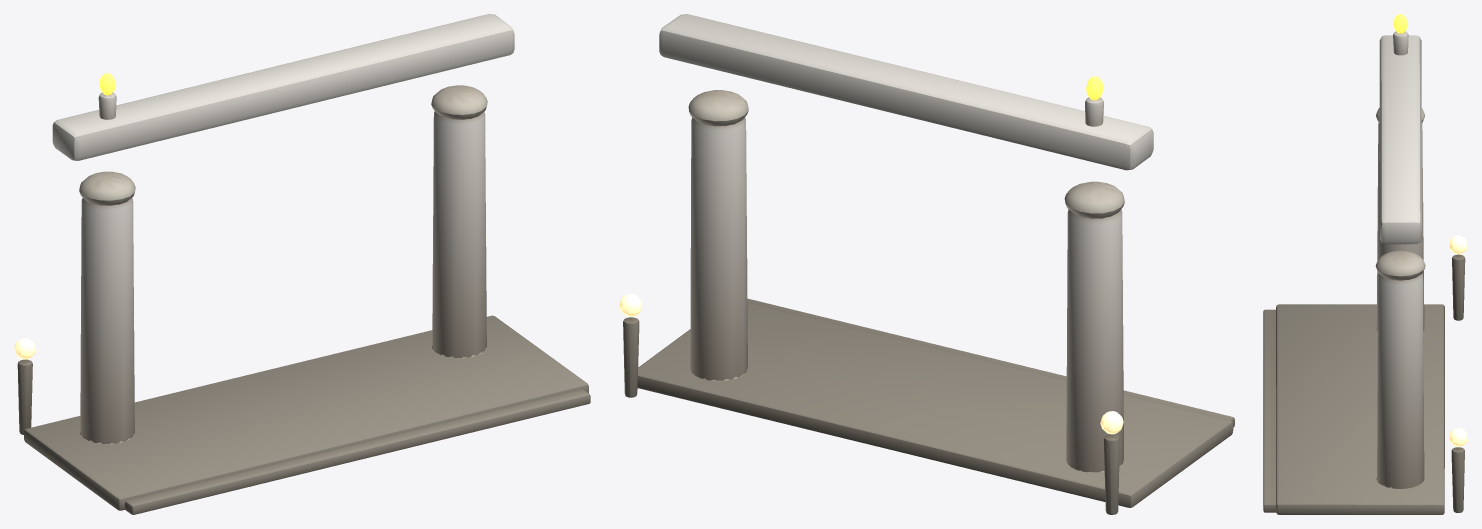
The picture shows the model from 3 angles, left to right: view 1: azimuth 30°, elevation 25°; view 2: azimuth 150°, elevation 25°; view 3: azimuth 270°, elevation 25°; orthographic projection. The views are drawn at different scales.
Parts seen in each view (by area): view 1: gate_f7dd9d60; view 2: gate_f7dd9d60; view 3: gate_f7dd9d60.
Part boxes in pixels (x1=…): gate_f7dd9d60: x1=14, y1=14, x2=590, y2=514; gate_f7dd9d60: x1=619, y1=14, x2=1234, y2=514; gate_f7dd9d60: x1=1263, y1=14, x2=1467, y2=514.
Bounding box in the file's own units: 5.93 × 4.48 × 2.54.
